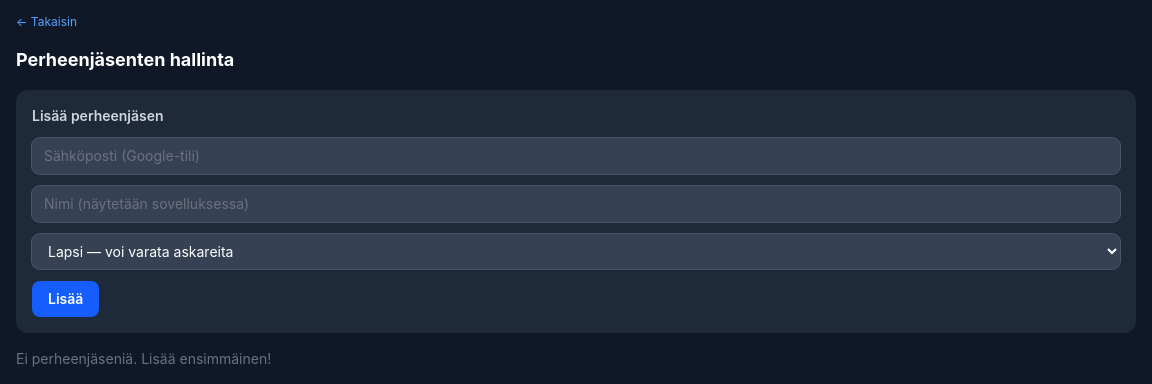
Test case: UsersManagerView › requires name field
This screenshot has width=1152, height=384.
Step 1. Type "test@example.com" into the field with placeholder "Sähköposti (Google-tili)" → {"x": 576, "y": 156}, box [32,138,1120,174]
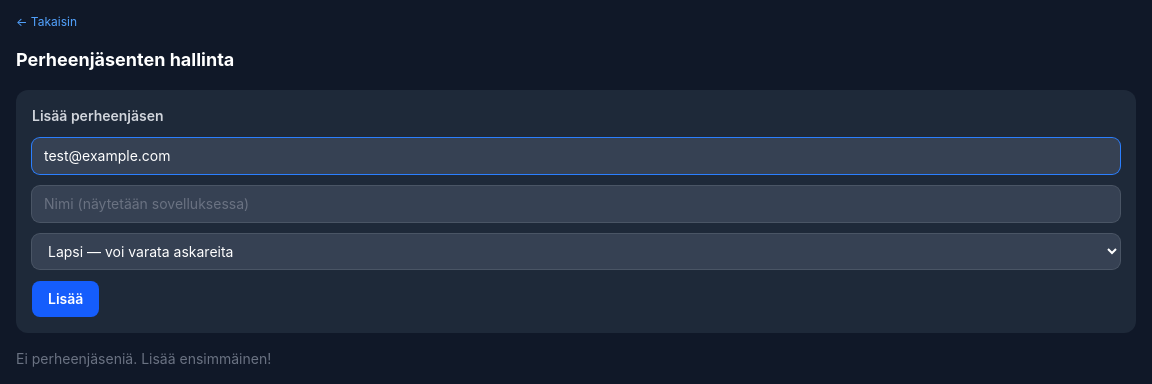
Step 2. Click the button "Lisää" → {"x": 66, "y": 299}, box [32,281,99,317]
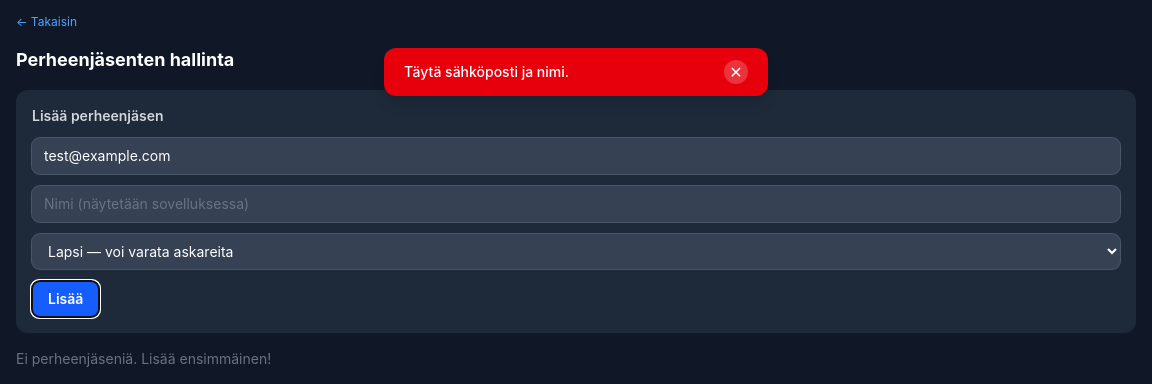
Now the text "Täytä sähköposti ja nimi." is shown, box [404,63,569,80]
